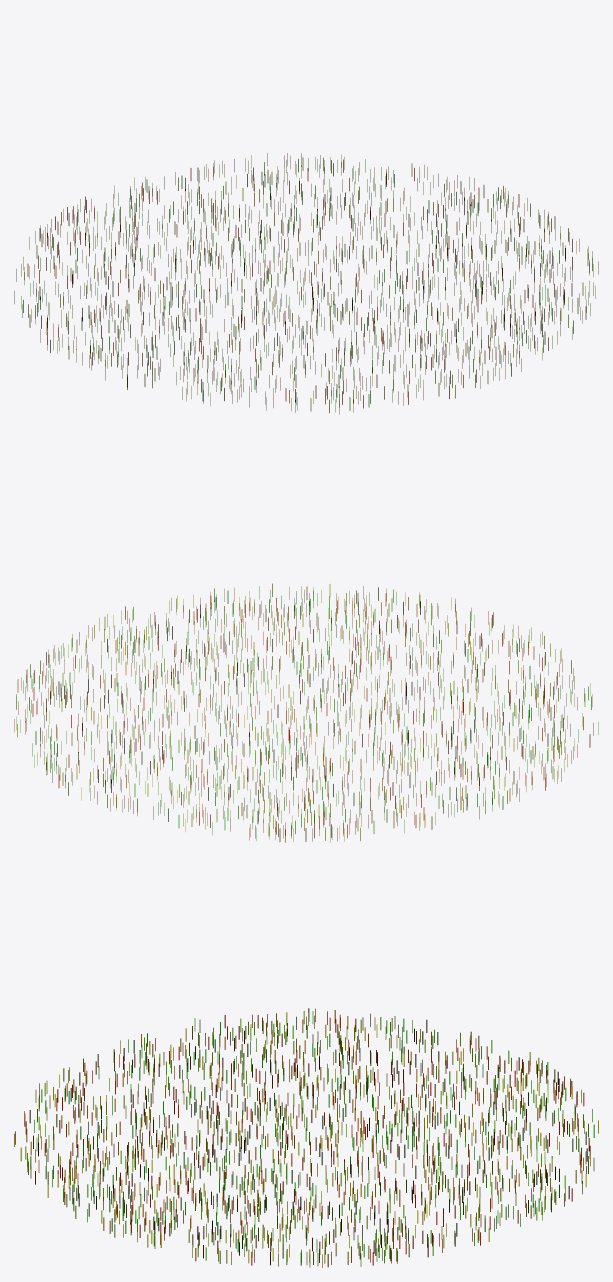
Rendered from SM_VFX_RainMesh_Mid.FBX.
3 renders of one model, top to bottom at view 1: azimuth 30°, elevation 25°; view 2: azimuth 150°, elevation 25°; view 3: azimuth 270°, elevation 25°, orthographic.
Visible parts, largest first — view 1: SM_VFX_RainMesh_Mid; view 2: SM_VFX_RainMesh_Mid; view 3: SM_VFX_RainMesh_Mid.
Part boxes in pixels (<box>): SM_VFX_RainMesh_Mid: <box>14,153,598,414</box>; SM_VFX_RainMesh_Mid: <box>14,583,598,842</box>; SM_VFX_RainMesh_Mid: <box>14,1008,598,1267</box>.
Size of what is drawn, in the model's own units: 1965 by 1975 by 1025.
